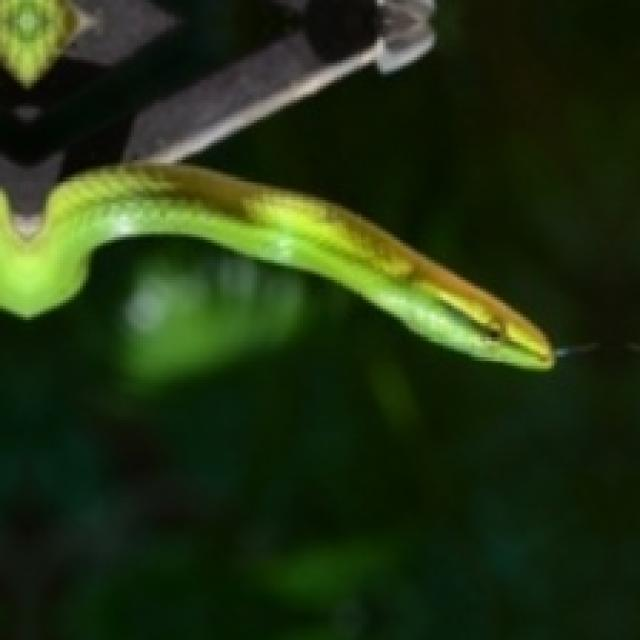red-tailed green ratsnake: (0, 163, 551, 366)
